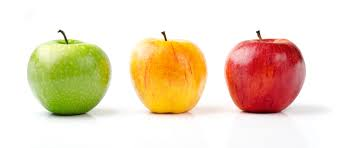apple: (25, 43, 109, 121), (223, 42, 307, 114), (133, 42, 206, 112)
